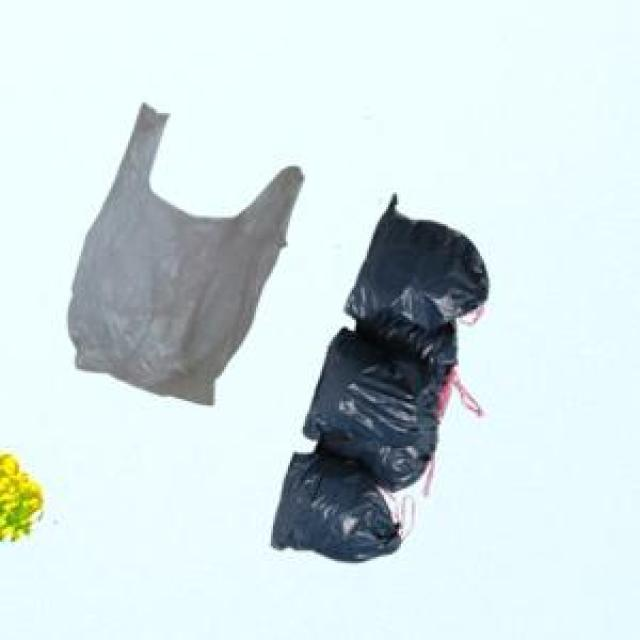miscellaneous trash: (267, 192, 484, 559)
